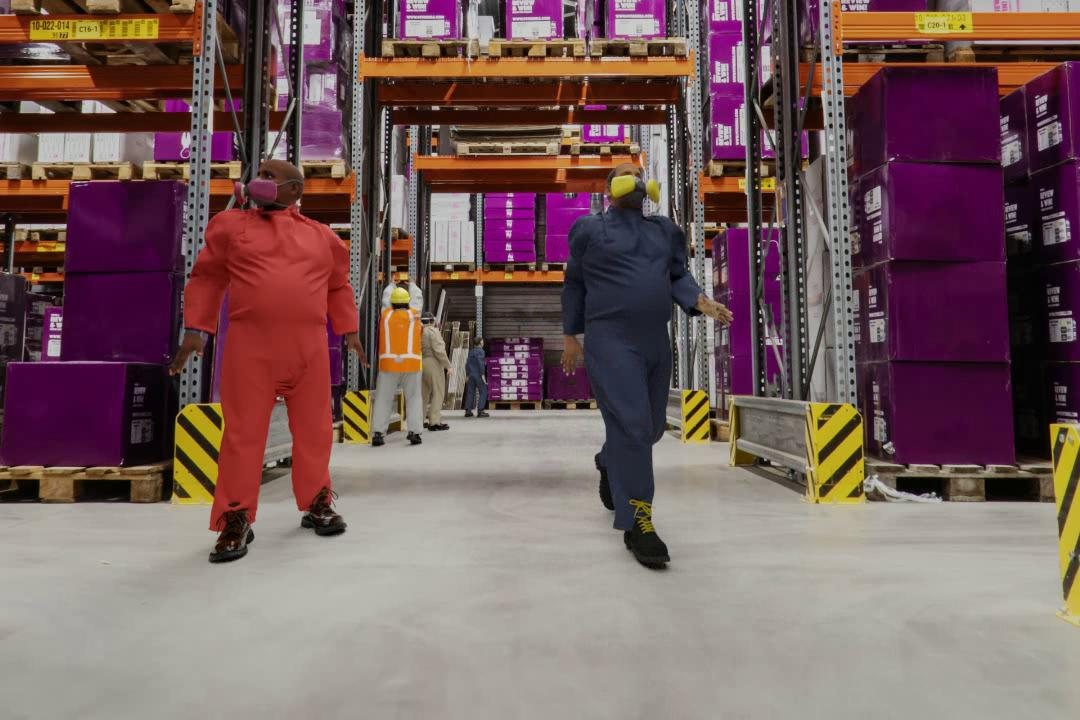Helmet: (385, 287, 409, 303)
Jacket: (377, 315, 418, 377)
Shoes: (621, 510, 671, 569), (208, 511, 255, 564), (301, 496, 346, 538), (596, 450, 610, 509), (405, 430, 424, 445), (371, 430, 385, 447), (428, 424, 449, 431), (476, 411, 488, 417), (464, 411, 474, 417)
